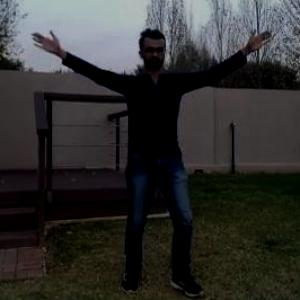takeoff: (23, 31, 252, 288)
